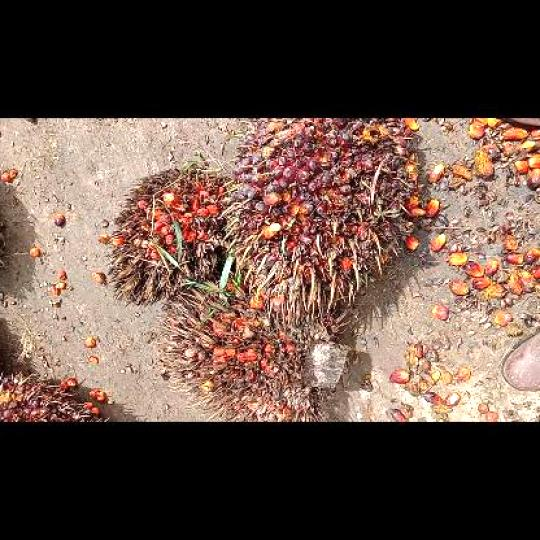masak: (218, 119, 426, 328)
terlalu masak: (156, 272, 350, 421), (103, 165, 229, 305)
